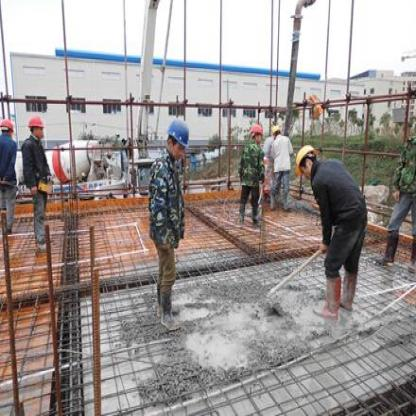helmet: (164, 116, 190, 163), (295, 144, 320, 177), (28, 113, 46, 141), (249, 122, 264, 144), (1, 117, 15, 139), (270, 122, 284, 141)
